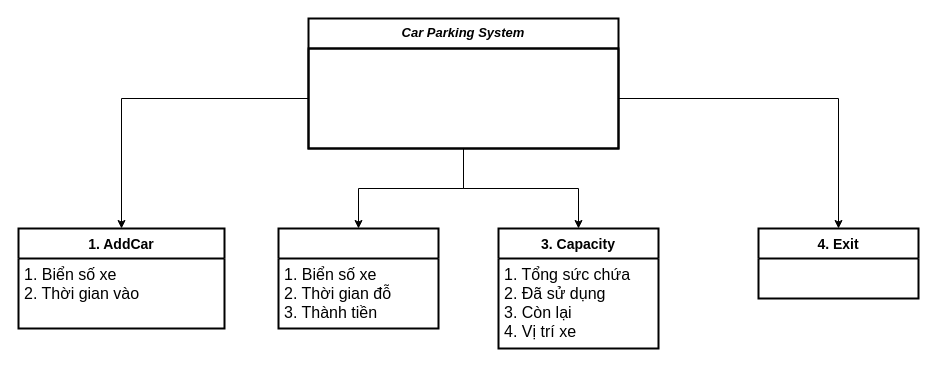
The diagram is 936 pixels wide and 366 high, and some of its shapes have lost their labels. Each missing label, with the box of its shape:
1. AddCar 2. DelCar 3. Capacity 4. Exit: (307, 47, 619, 149)
2. DelCar: (277, 227, 439, 329)
